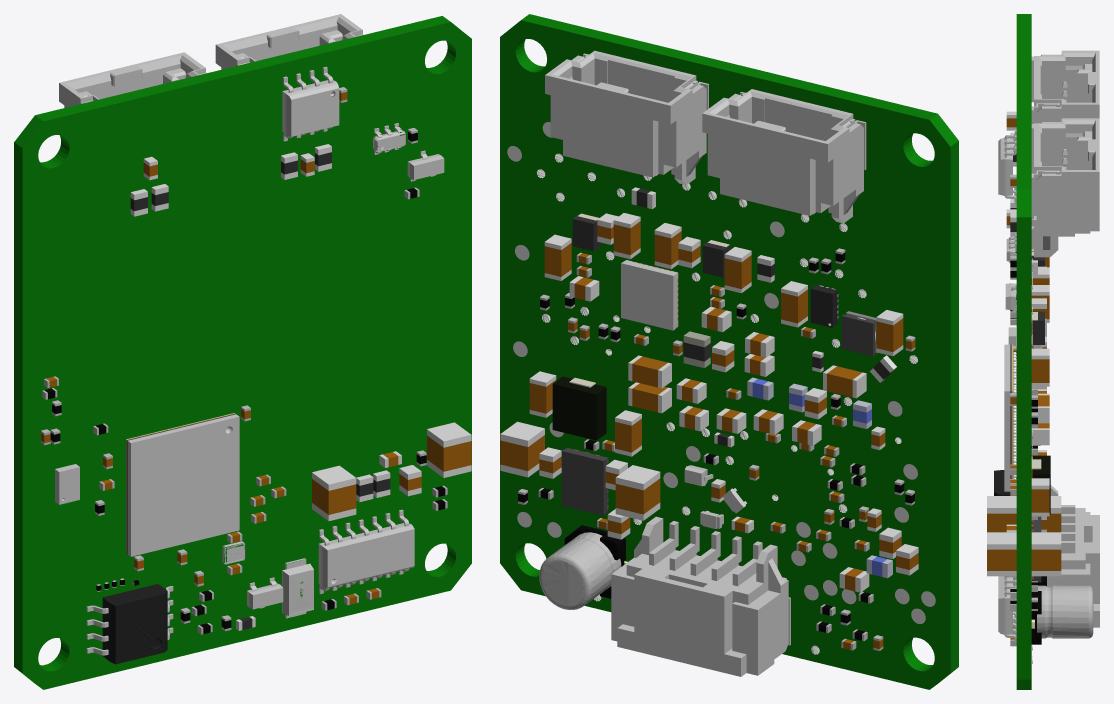
3 views of the same model, side by side, from view 1: azimuth 30°, elevation 25°; view 2: azimuth 150°, elevation 25°; view 3: azimuth 270°, elevation 25° (orthographic). The views are drawn at different scales.
Parts seen in each view (by area): view 1: empty_695, empty_1647, empty_707, empty_1674, empty_1702, empty_758, empty_2073, empty_2195, empty_207, empty_208, empty_297, empty_299 (+3 smaller); view 2: empty_695, empty_1891, empty_2008, empty_2130, empty_769, empty_763, empty_2, empty_709, empty_1732, empty_2151, empty_2029, empty_1896 (+26 smaller); view 3: empty_695, empty_1997, empty_769, empty_1732, empty_2119, empty_2058, empty_2180, empty_2133, empty_2011, empty_1649, empty_276, empty_207 (+37 smaller).
Part boxes in pixels (x1,y1,x2,y2): empty_695: (14, 16, 471, 689); empty_1647: (131, 416, 239, 556); empty_707: (102, 584, 167, 664); empty_1674: (327, 529, 414, 586); empty_1702: (291, 88, 339, 136); empty_758: (282, 563, 313, 615); empty_2073: (231, 25, 337, 60); empty_2195: (75, 64, 180, 99); empty_207: (427, 436, 471, 471); empty_208: (312, 479, 356, 514); empty_297: (427, 422, 471, 447); empty_299: (312, 465, 356, 490); empty_695: (500, 14, 958, 689); empty_1891: (617, 575, 740, 676); empty_2008: (545, 75, 670, 177); empty_2130: (702, 113, 827, 215); empty_769: (539, 532, 621, 609); empty_763: (621, 260, 678, 330); empty_2: (552, 376, 606, 440); empty_709: (561, 447, 608, 515); empty_1732: (627, 550, 762, 596); empty_2151: (828, 124, 863, 205); empty_2029: (670, 86, 706, 167); empty_1896: (758, 580, 788, 675); empty_695: (1016, 14, 1031, 689); empty_1997: (1036, 172, 1099, 236); empty_769: (1037, 585, 1093, 638); empty_1732: (1061, 508, 1099, 560); empty_2119: (1036, 104, 1099, 123); empty_2058: (1042, 128, 1065, 166); empty_2180: (1042, 61, 1065, 98); empty_2133: (1034, 50, 1099, 104); empty_2011: (1034, 118, 1099, 171); empty_1649: (1004, 391, 1010, 491); empty_276: (1031, 549, 1061, 570); empty_207: (987, 549, 1016, 570).
Size of the model in its own units: 43 by 52 by 10.63.
